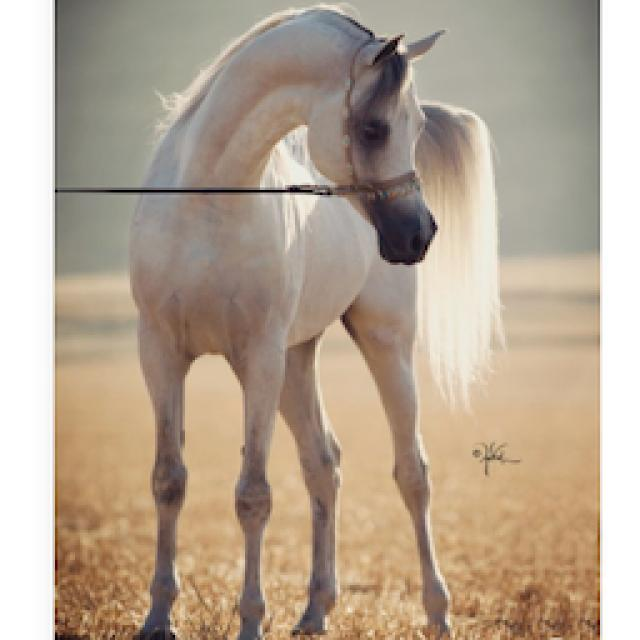Horse: (118, 0, 510, 638)
